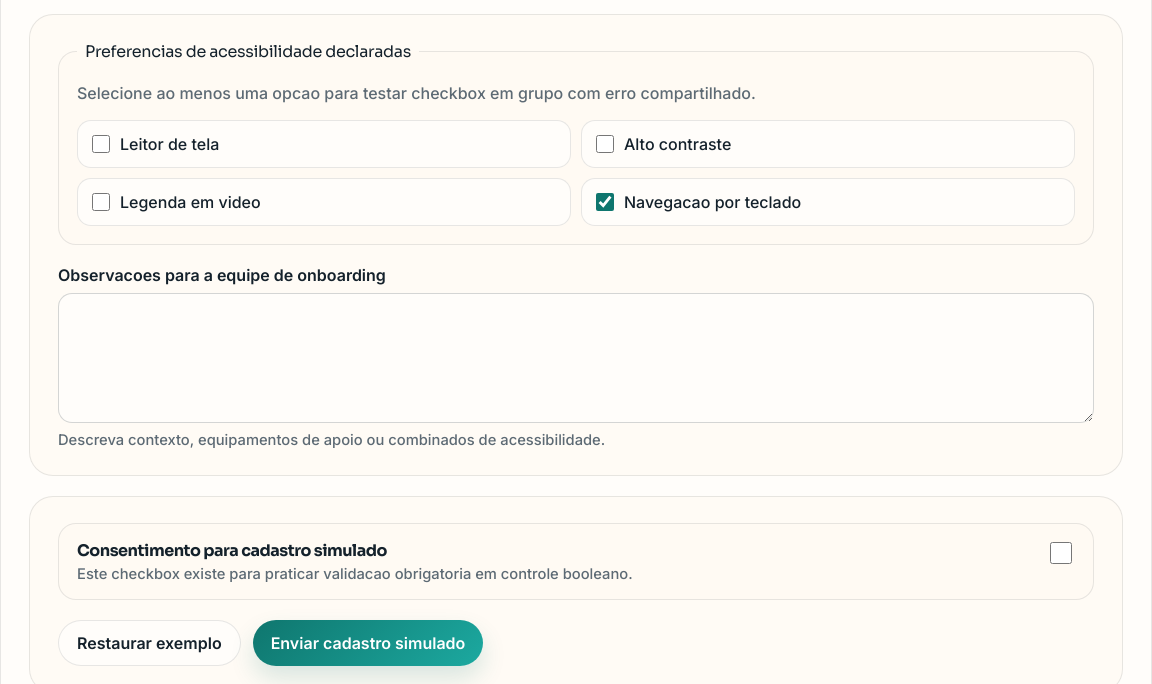
A11yLabPage › shows accessible validation feedback for the simulated profile form
(page scrolled)
Click the button "Enviar cadastro simulado": (368, 643) 253,620 -> 483,666
(page scrolled)
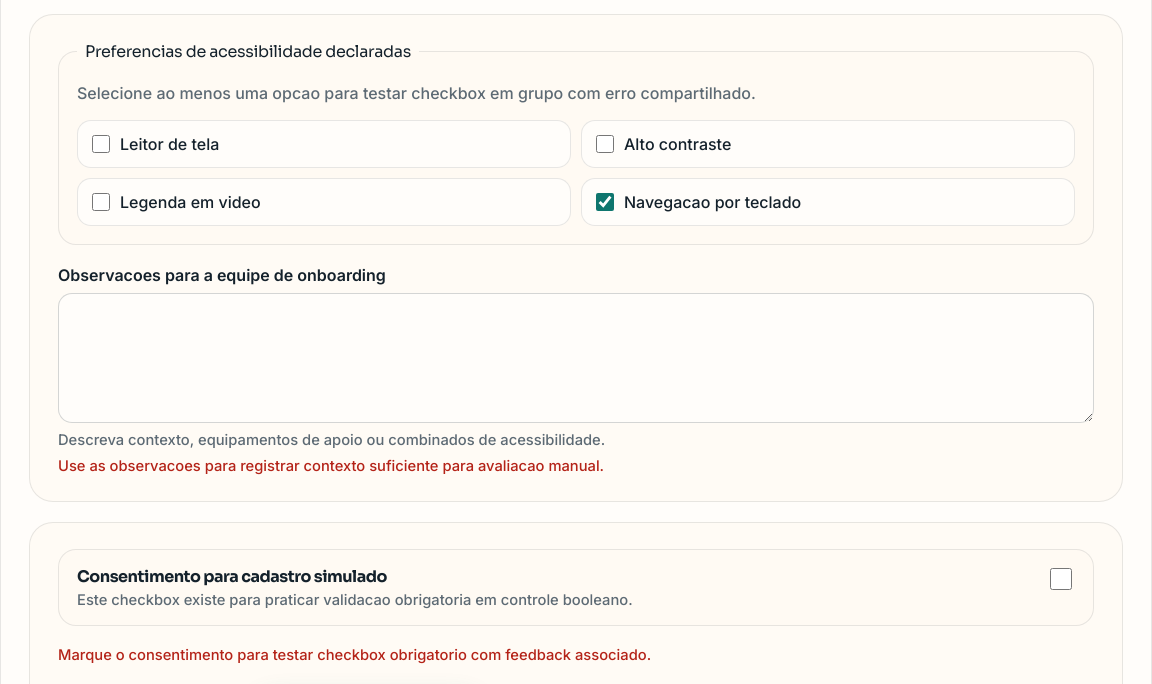
Expected: the text "Marque o consentimento para testar checkbox obrigatorio" is shown, 58,646 -> 651,664
